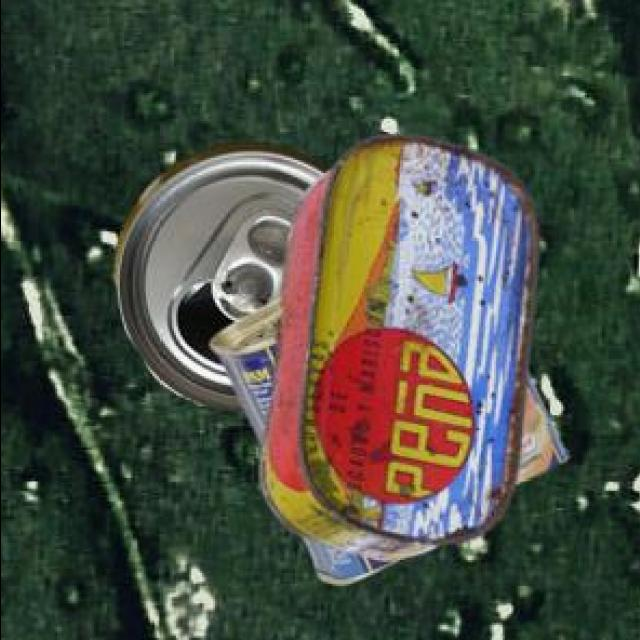logam: (263, 131, 542, 555), (213, 297, 570, 581), (116, 139, 332, 408)
